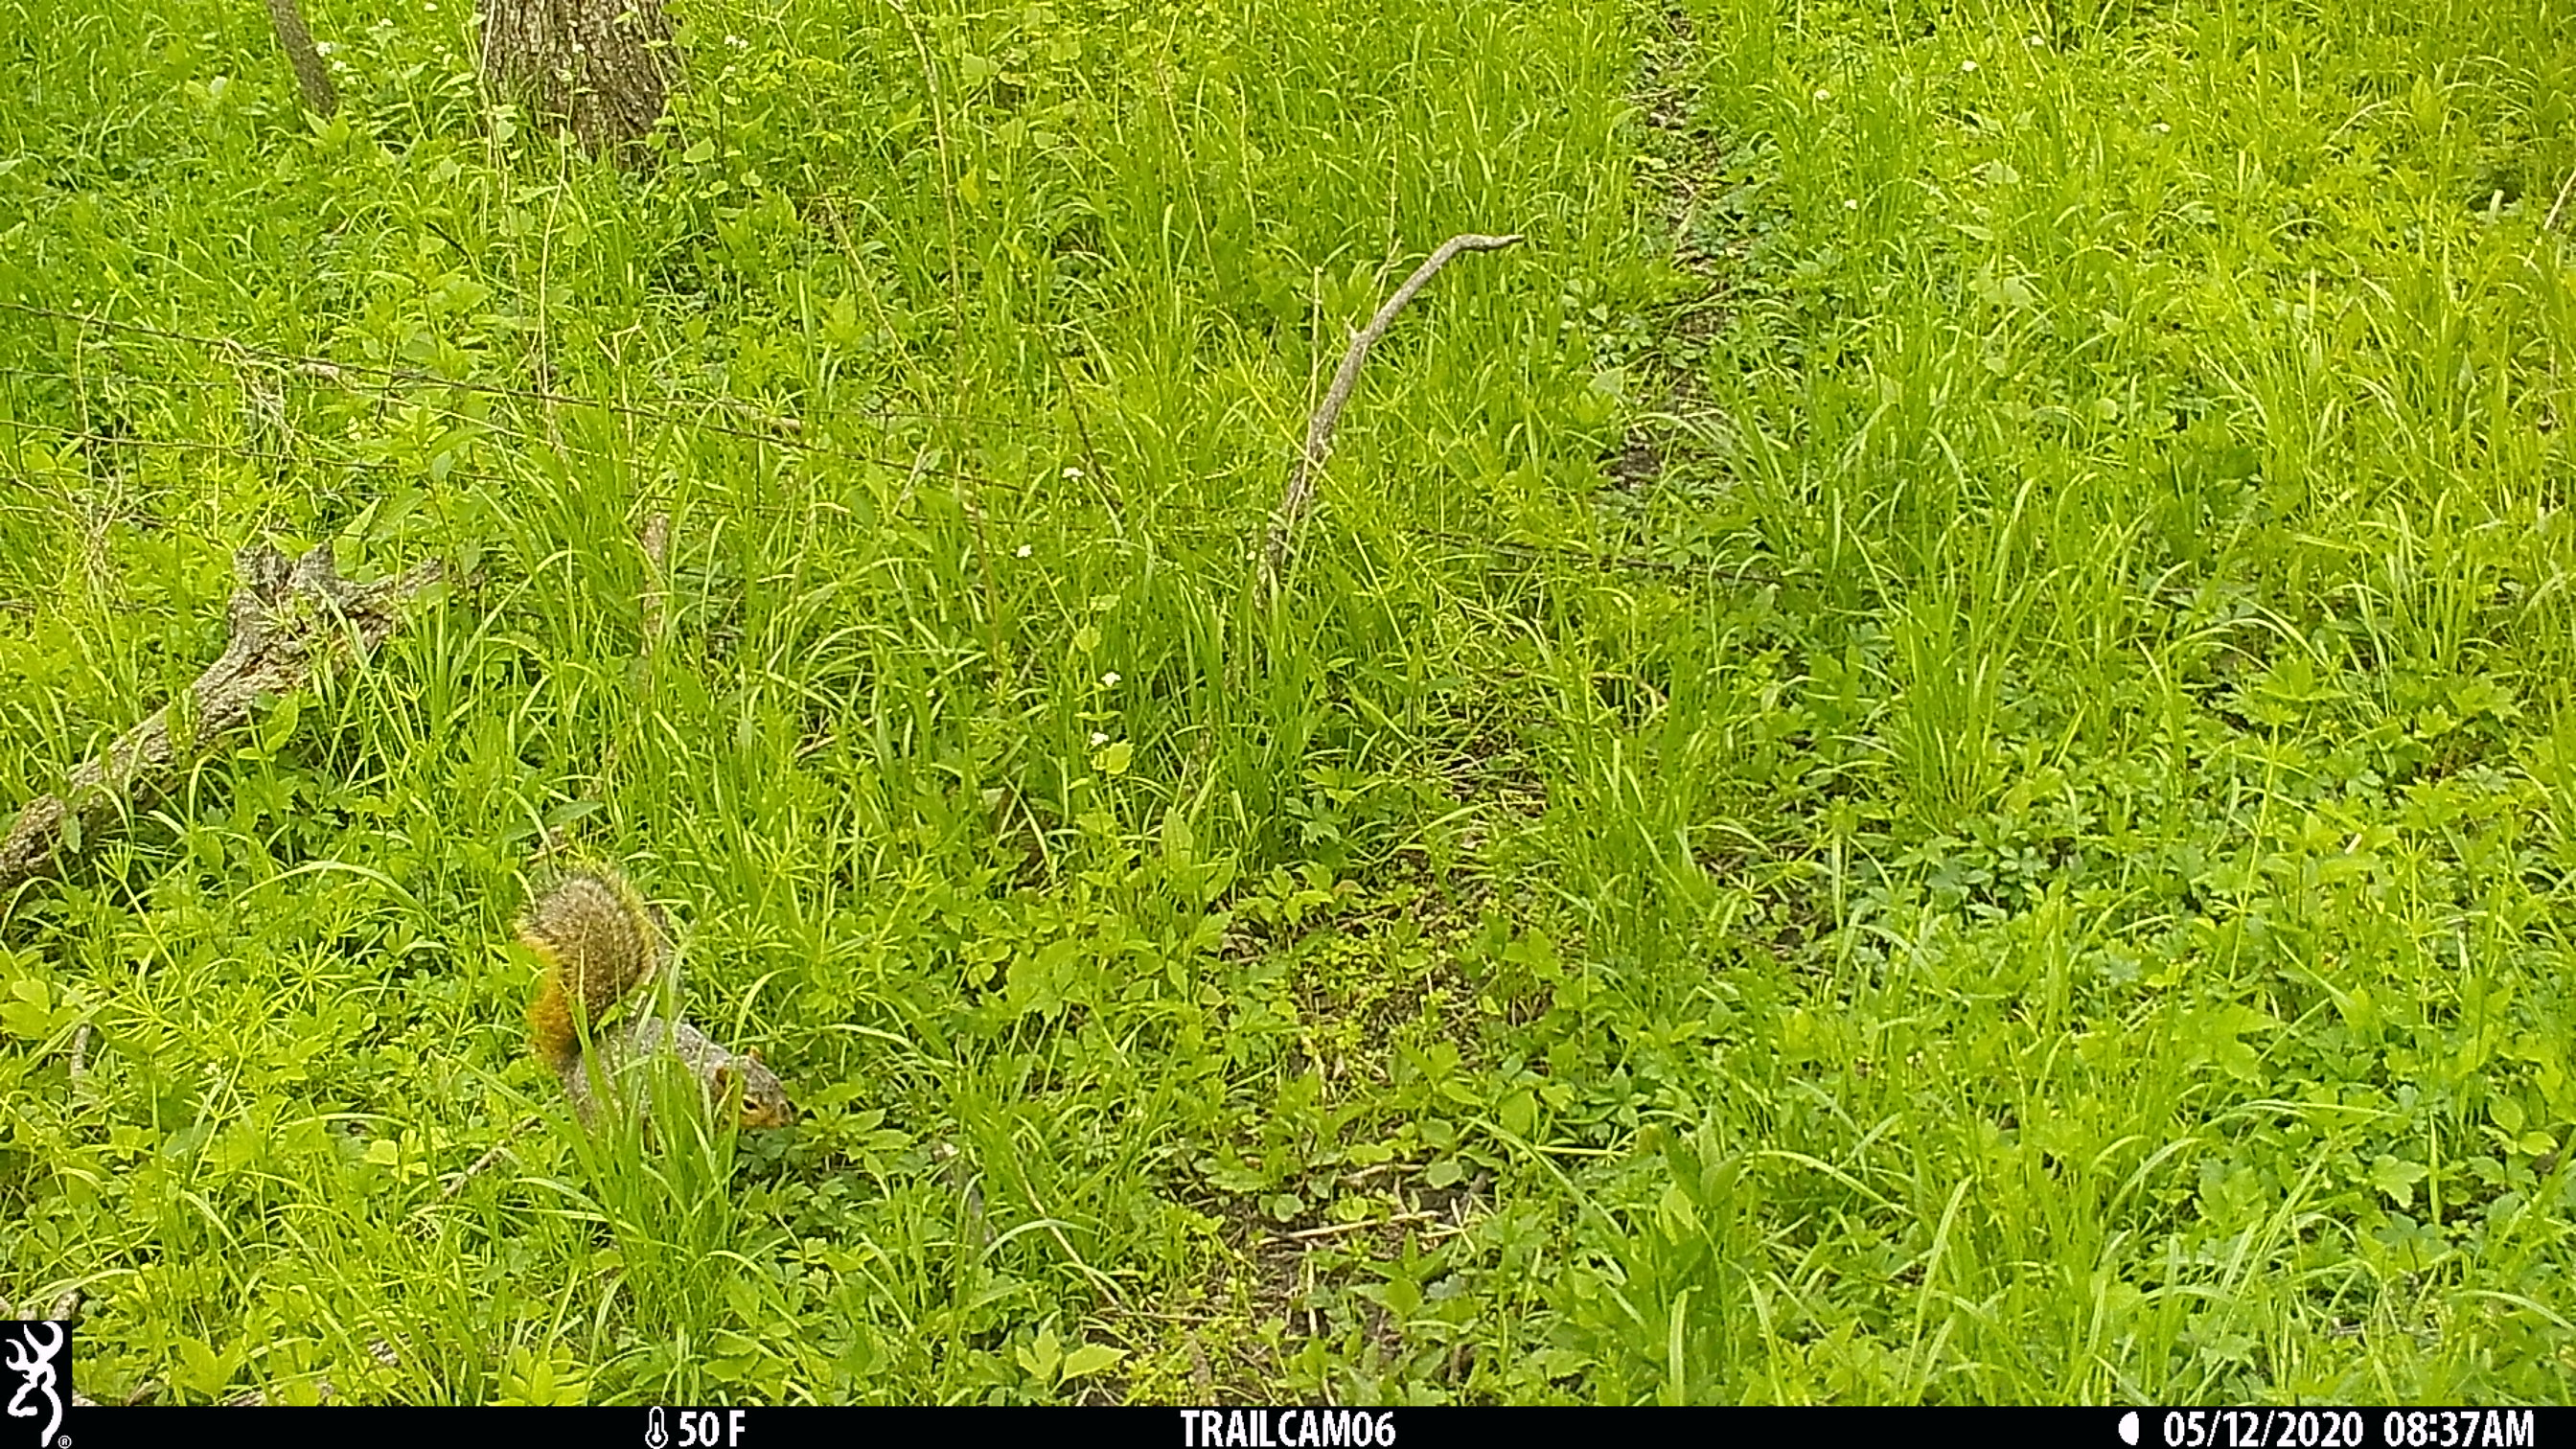Squirrel: (513, 851, 798, 1146)
